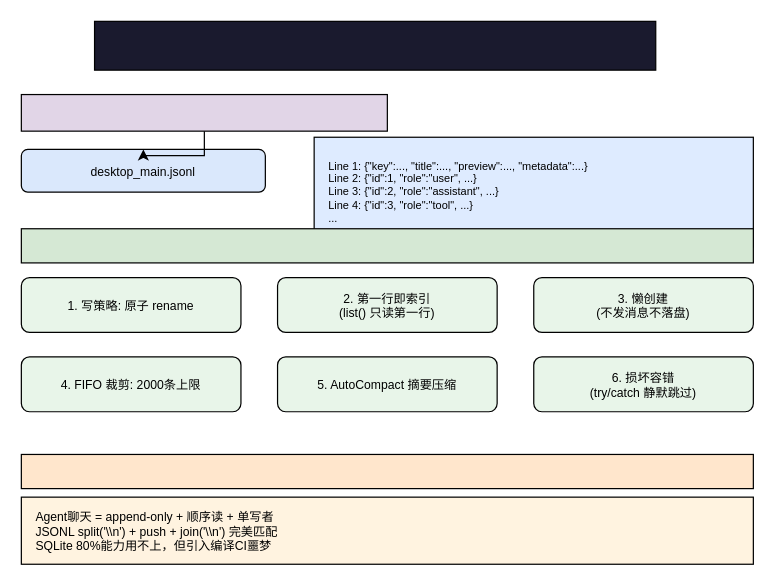
The diagram is 775 pixels wide and 586 high, and some of its shapes have lost their labels. The centre of each missing label's shape, as x and y in pixels:
"JSONL 持久化 — 会话目录结构与访问模式" goes at point (374, 45).
"vs SQLite — 为什么不用数据库?" goes at point (386, 471).
"~/.catbuddy/workspace/sessions/" goes at point (203, 112).
"核心设计" goes at point (386, 245).
